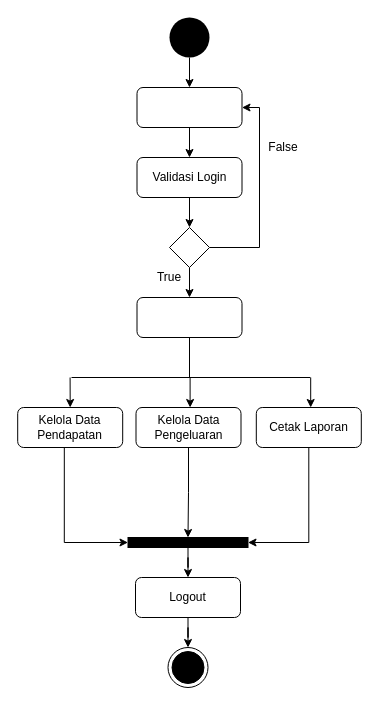
Some shapes in this 379 by 705 pixel diagram are drawn without their labels. Here are the shapes that lost their labels. From the top down, the box of each, then its label:
(136, 86, 242, 128): Login
(136, 296, 242, 338): Admin
